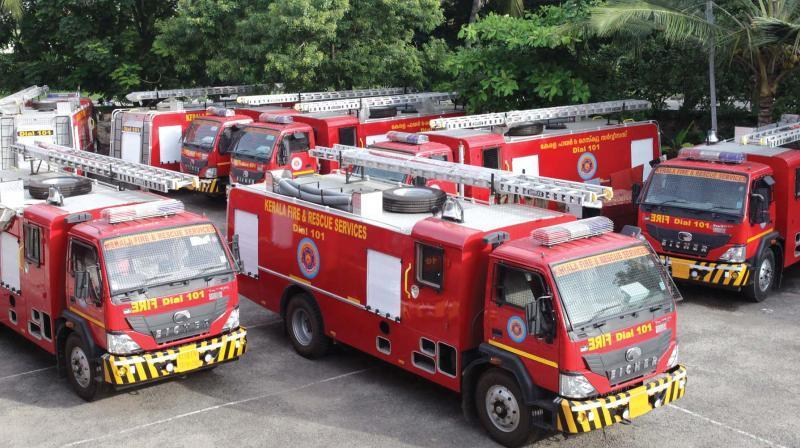Fire-engine: (302, 140, 619, 214), (739, 119, 800, 147), (294, 236, 323, 283), (506, 314, 527, 343), (577, 151, 597, 179), (291, 156, 303, 170)
